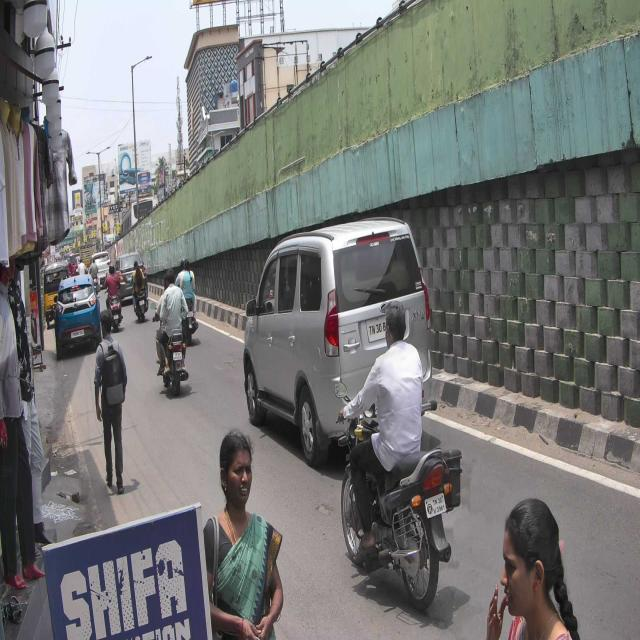single_rider: (335, 296, 457, 606)
